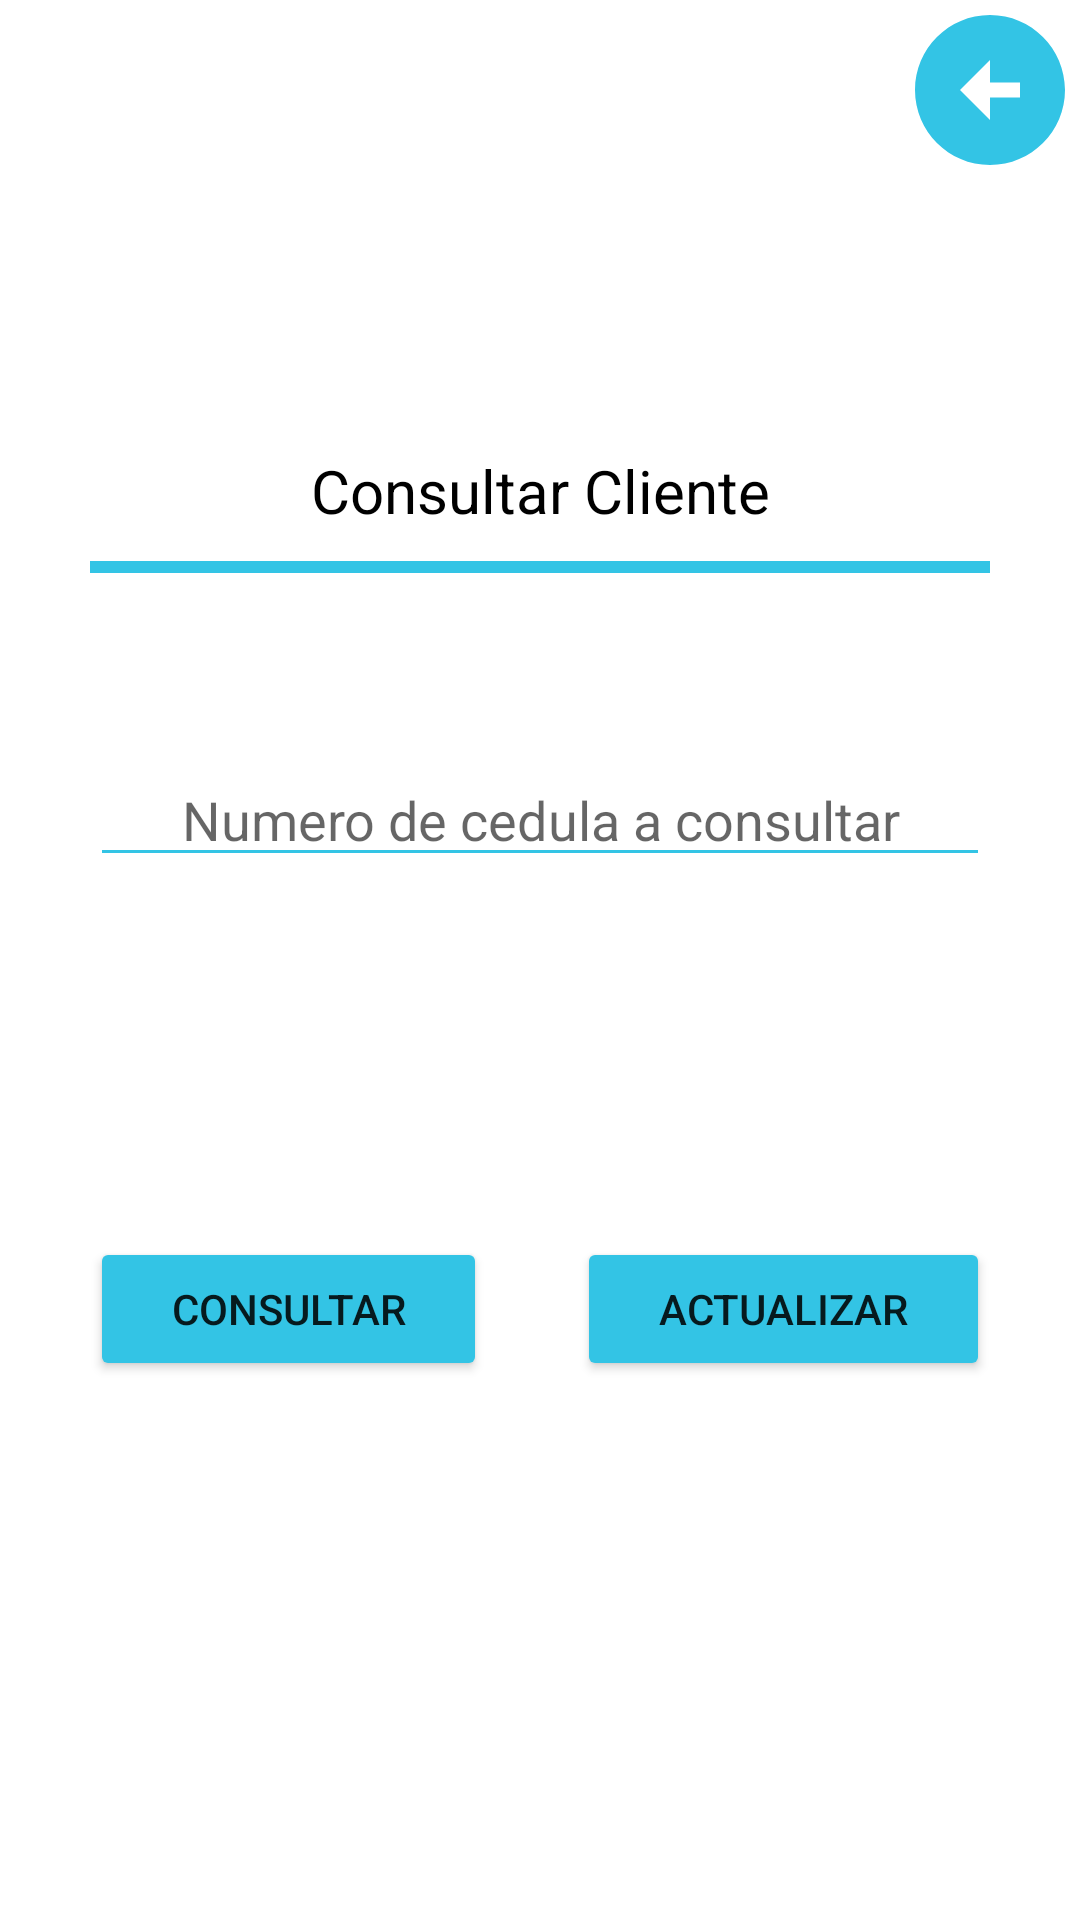

Where to tap for icons on this 1080 × 1920 app screen, as point (x, y):
arrow circle left: point (990, 90)
